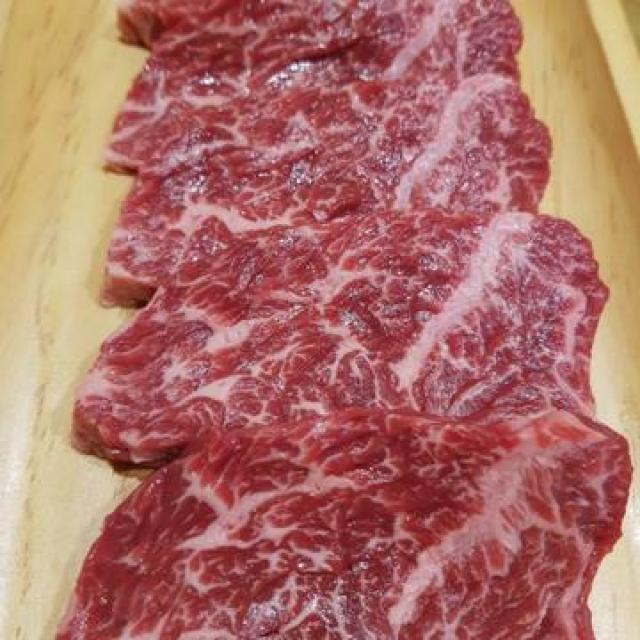pork: (92, 2, 608, 640)
